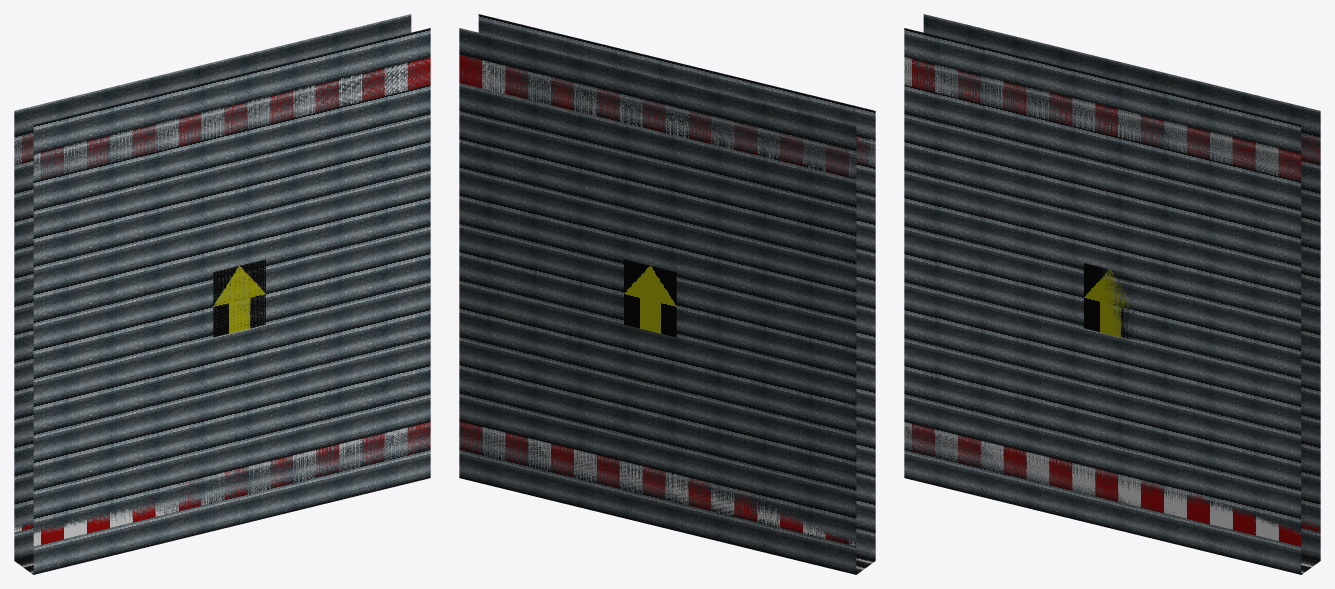
The model's file is primary_39.glb.
The picture shows the model from 3 angles, left to right: view 1: azimuth 30°, elevation 25°; view 2: azimuth 150°, elevation 25°; view 3: azimuth 330°, elevation 25°; orthographic projection.
Parts seen in each view (by area): view 1: Object; view 2: Object; view 3: Object.
Boxes of the visible parts, x1,y1,x2,y2 form: Object: (14,14,430,574); Object: (459,14,875,574); Object: (904,14,1320,574).
Bounding box in the file's own units: 1.52 × 1.64 × 0.1263.
Materials: 6 (6 with a texture image).
